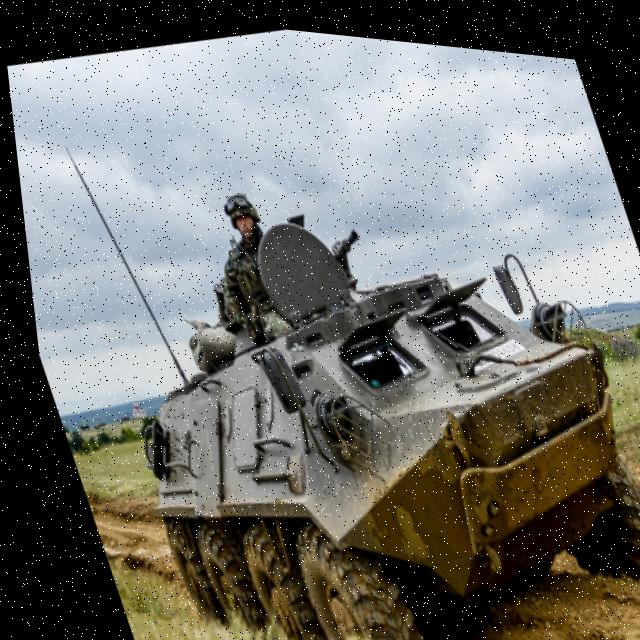MIL_APC: (50, 140, 640, 640)
